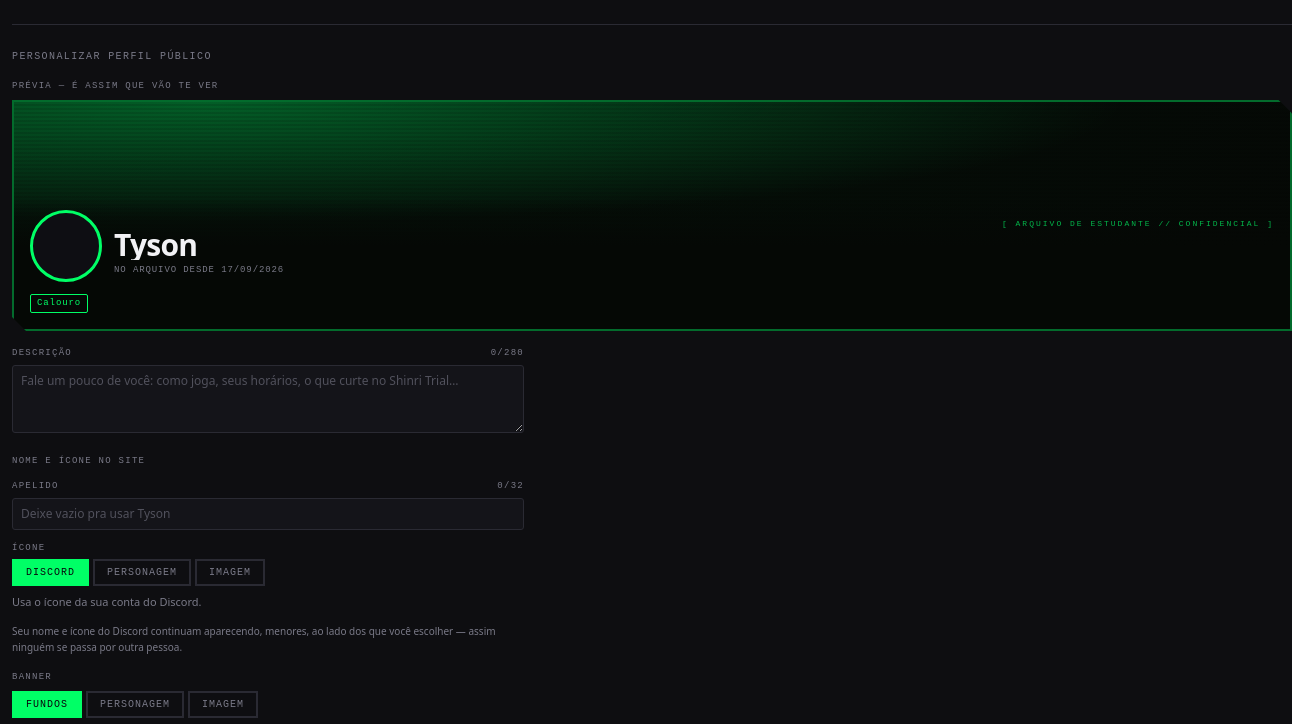
Test: PersonalizarPerfil › a prévia mostra a descrição enquanto a pessoa digita
The image size is (1292, 724).
Replace the text in the text box with placeholder "Fale um pouco de você" with "Main detetive": (268, 398) [12,364,524,432]
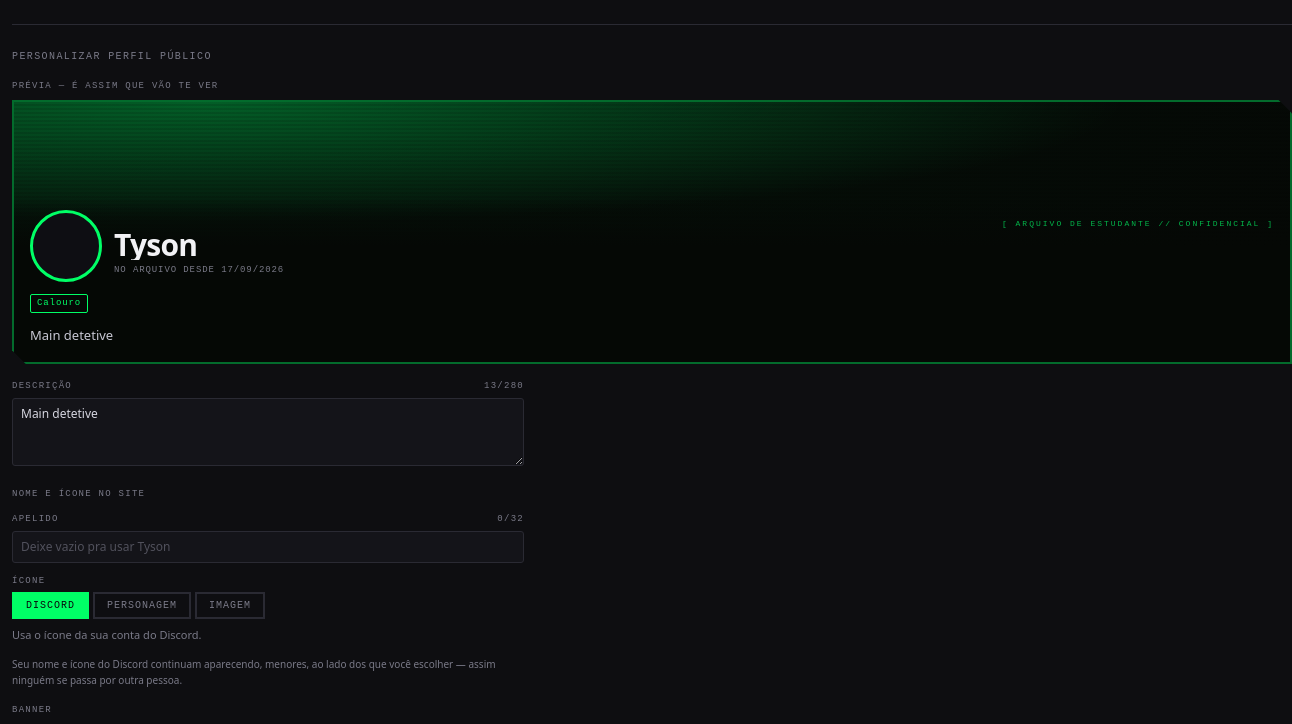
Result: the text "Main detetive" is shown at [30,326,113,344]
Result: the text "13/280" is shown at [484,380,524,394]
